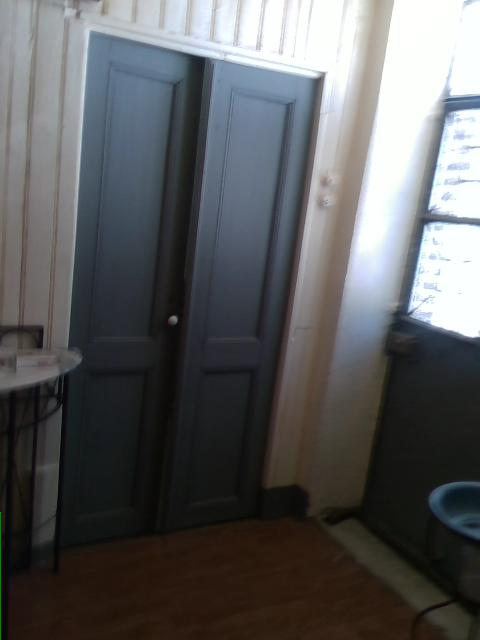door: (54, 25, 320, 550)
